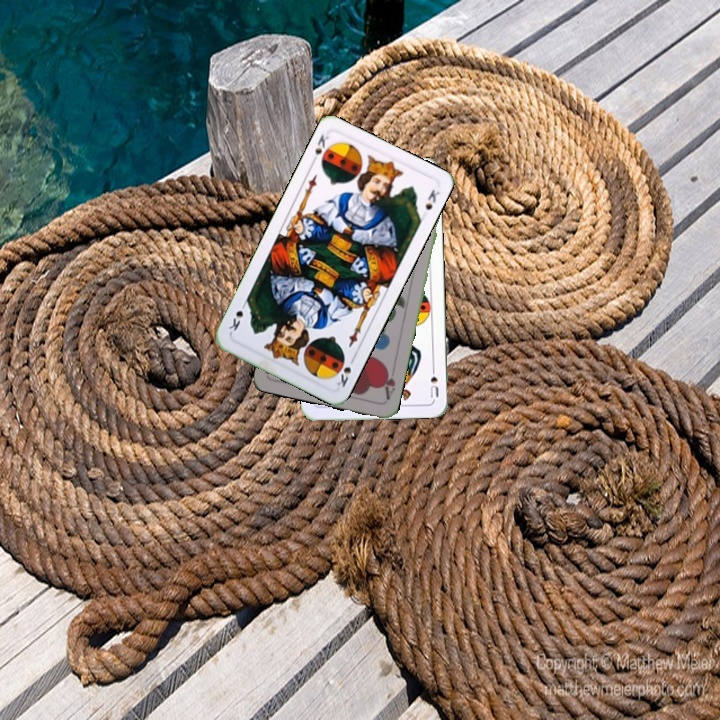HA: (378, 362, 398, 402)
SK: (333, 352, 358, 390), (307, 130, 331, 167)
SU: (426, 361, 441, 400)
